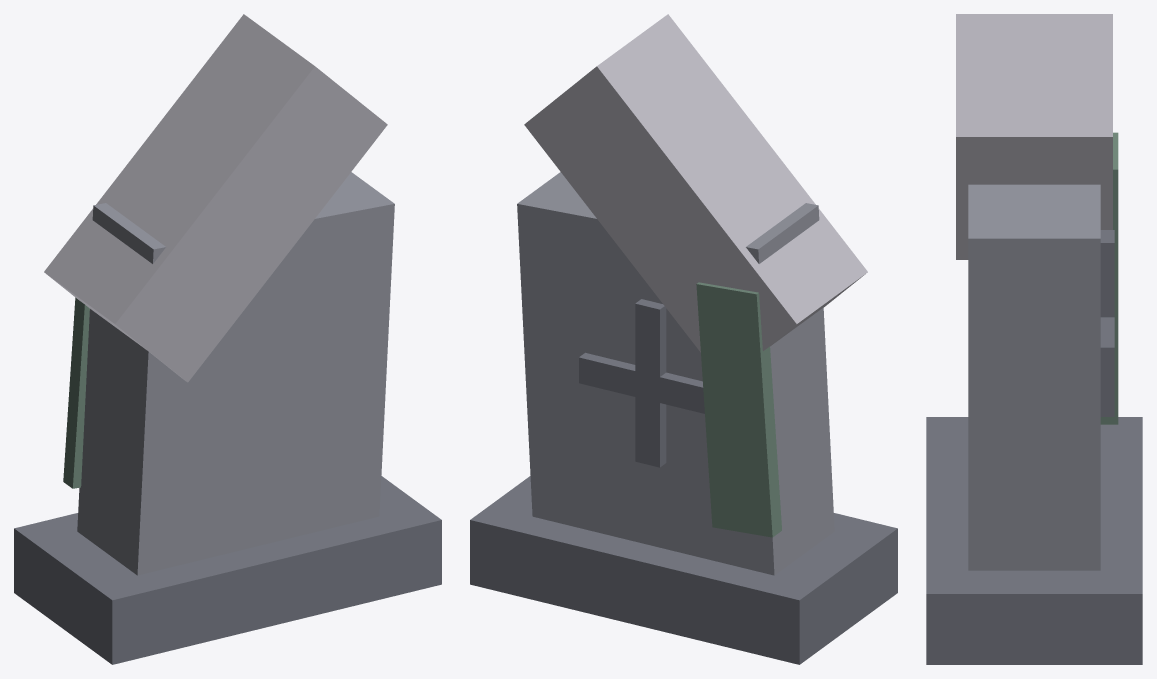
File: gothic_gravestone.glb
3 renders of one model, left to right at view 1: azimuth 30°, elevation 25°; view 2: azimuth 150°, elevation 25°; view 3: azimuth 270°, elevation 25°, orthographic. The views are drawn at different scales.
Visible parts, largest first — view 1: Moonpost Gothic Gravestone; view 2: Moonpost Gothic Gravestone; view 3: Moonpost Gothic Gravestone.
Part boxes in pixels (x1=…): Moonpost Gothic Gravestone: x1=14, y1=14, x2=441, y2=664; Moonpost Gothic Gravestone: x1=470, y1=14, x2=897, y2=664; Moonpost Gothic Gravestone: x1=926, y1=14, x2=1142, y2=664.
Bounding box in the file's own units: 2.4 × 3.73 × 1.24.
